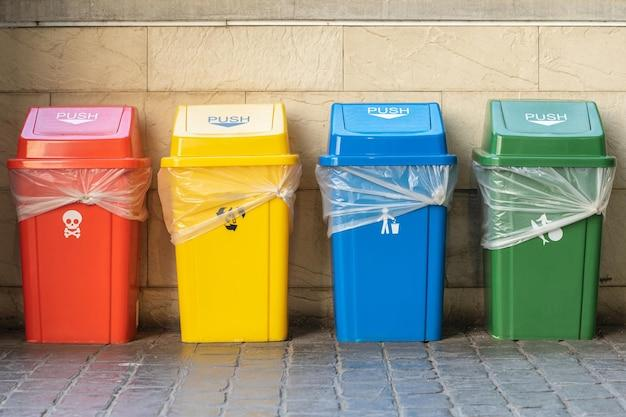road: (0, 1, 541, 27)
